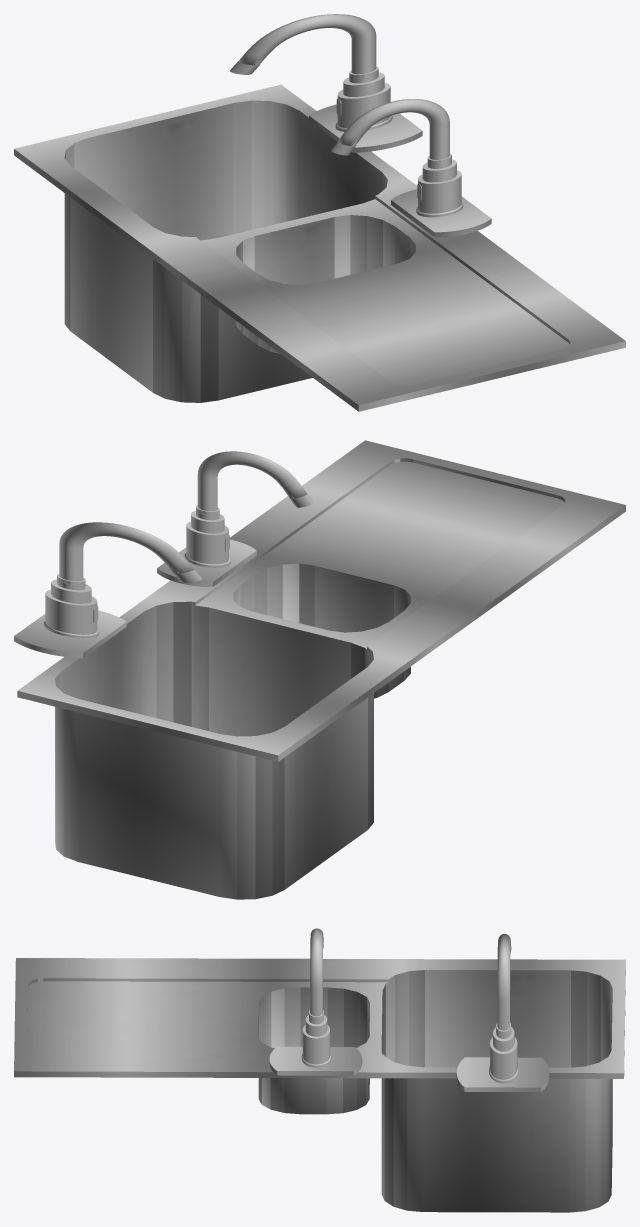
The model's file is 洗手盆.fbx.
3 renders of one model, top to bottom at view 1: azimuth 30°, elevation 25°; view 2: azimuth 150°, elevation 25°; view 3: azimuth 270°, elevation 25°, orthographic. The views are drawn at different scales.
Visible parts, largest first — view 1: P_sink_kitchen1_1, Group_143_2, Group_143_1, Group6, Group4, Component_71_1, Component_71_2, screw2, screw1; view 2: P_sink_kitchen1_1, Group_143_2, Group_143_1, Group6, Component_71_2, Group4, Component_71_1, screw2, screw1; view 3: P_sink_kitchen1_1, Group6, Group4, Group_143_2, Group_143_1, Component_71_2, Component_71_1, screw2, screw1.
Boxes of the visible parts, <box> form: P_sink_kitchen1_1: <box>14,84,625,411</box>; Group_143_2: <box>230,14,376,74</box>; Group_143_1: <box>331,99,449,159</box>; Group6: <box>309,104,422,152</box>; Group4: <box>391,189,491,237</box>; Component_71_1: <box>417,170,461,213</box>; Component_71_2: <box>336,83,390,128</box>; screw2: <box>343,66,384,96</box>; screw1: <box>422,153,456,182</box>; P_sink_kitchen1_1: <box>17,440,625,899</box>; Group_143_2: <box>59,522,202,582</box>; Group_143_1: <box>197,451,313,511</box>; Group6: <box>14,610,126,658</box>; Component_71_2: <box>45,589,98,634</box>; Group4: <box>157,539,256,586</box>; Component_71_1: <box>186,521,229,564</box>; screw2: <box>51,574,91,603</box>; screw1: <box>191,505,224,533</box>; P_sink_kitchen1_1: <box>14,958,625,1212</box>; Group6: <box>456,1057,549,1091</box>; Group4: <box>269,1046,362,1075</box>; Group_143_2: <box>497,934,511,1030</box>; Group_143_1: <box>310,928,323,1016</box>; Component_71_2: <box>490,1037,517,1079</box>; Component_71_1: <box>302,1025,330,1064</box>; screw2: <box>493,1023,514,1051</box>; screw1: <box>305,1010,327,1036</box>.
Size of the model in its own units: 644 by 560 by 1216.
